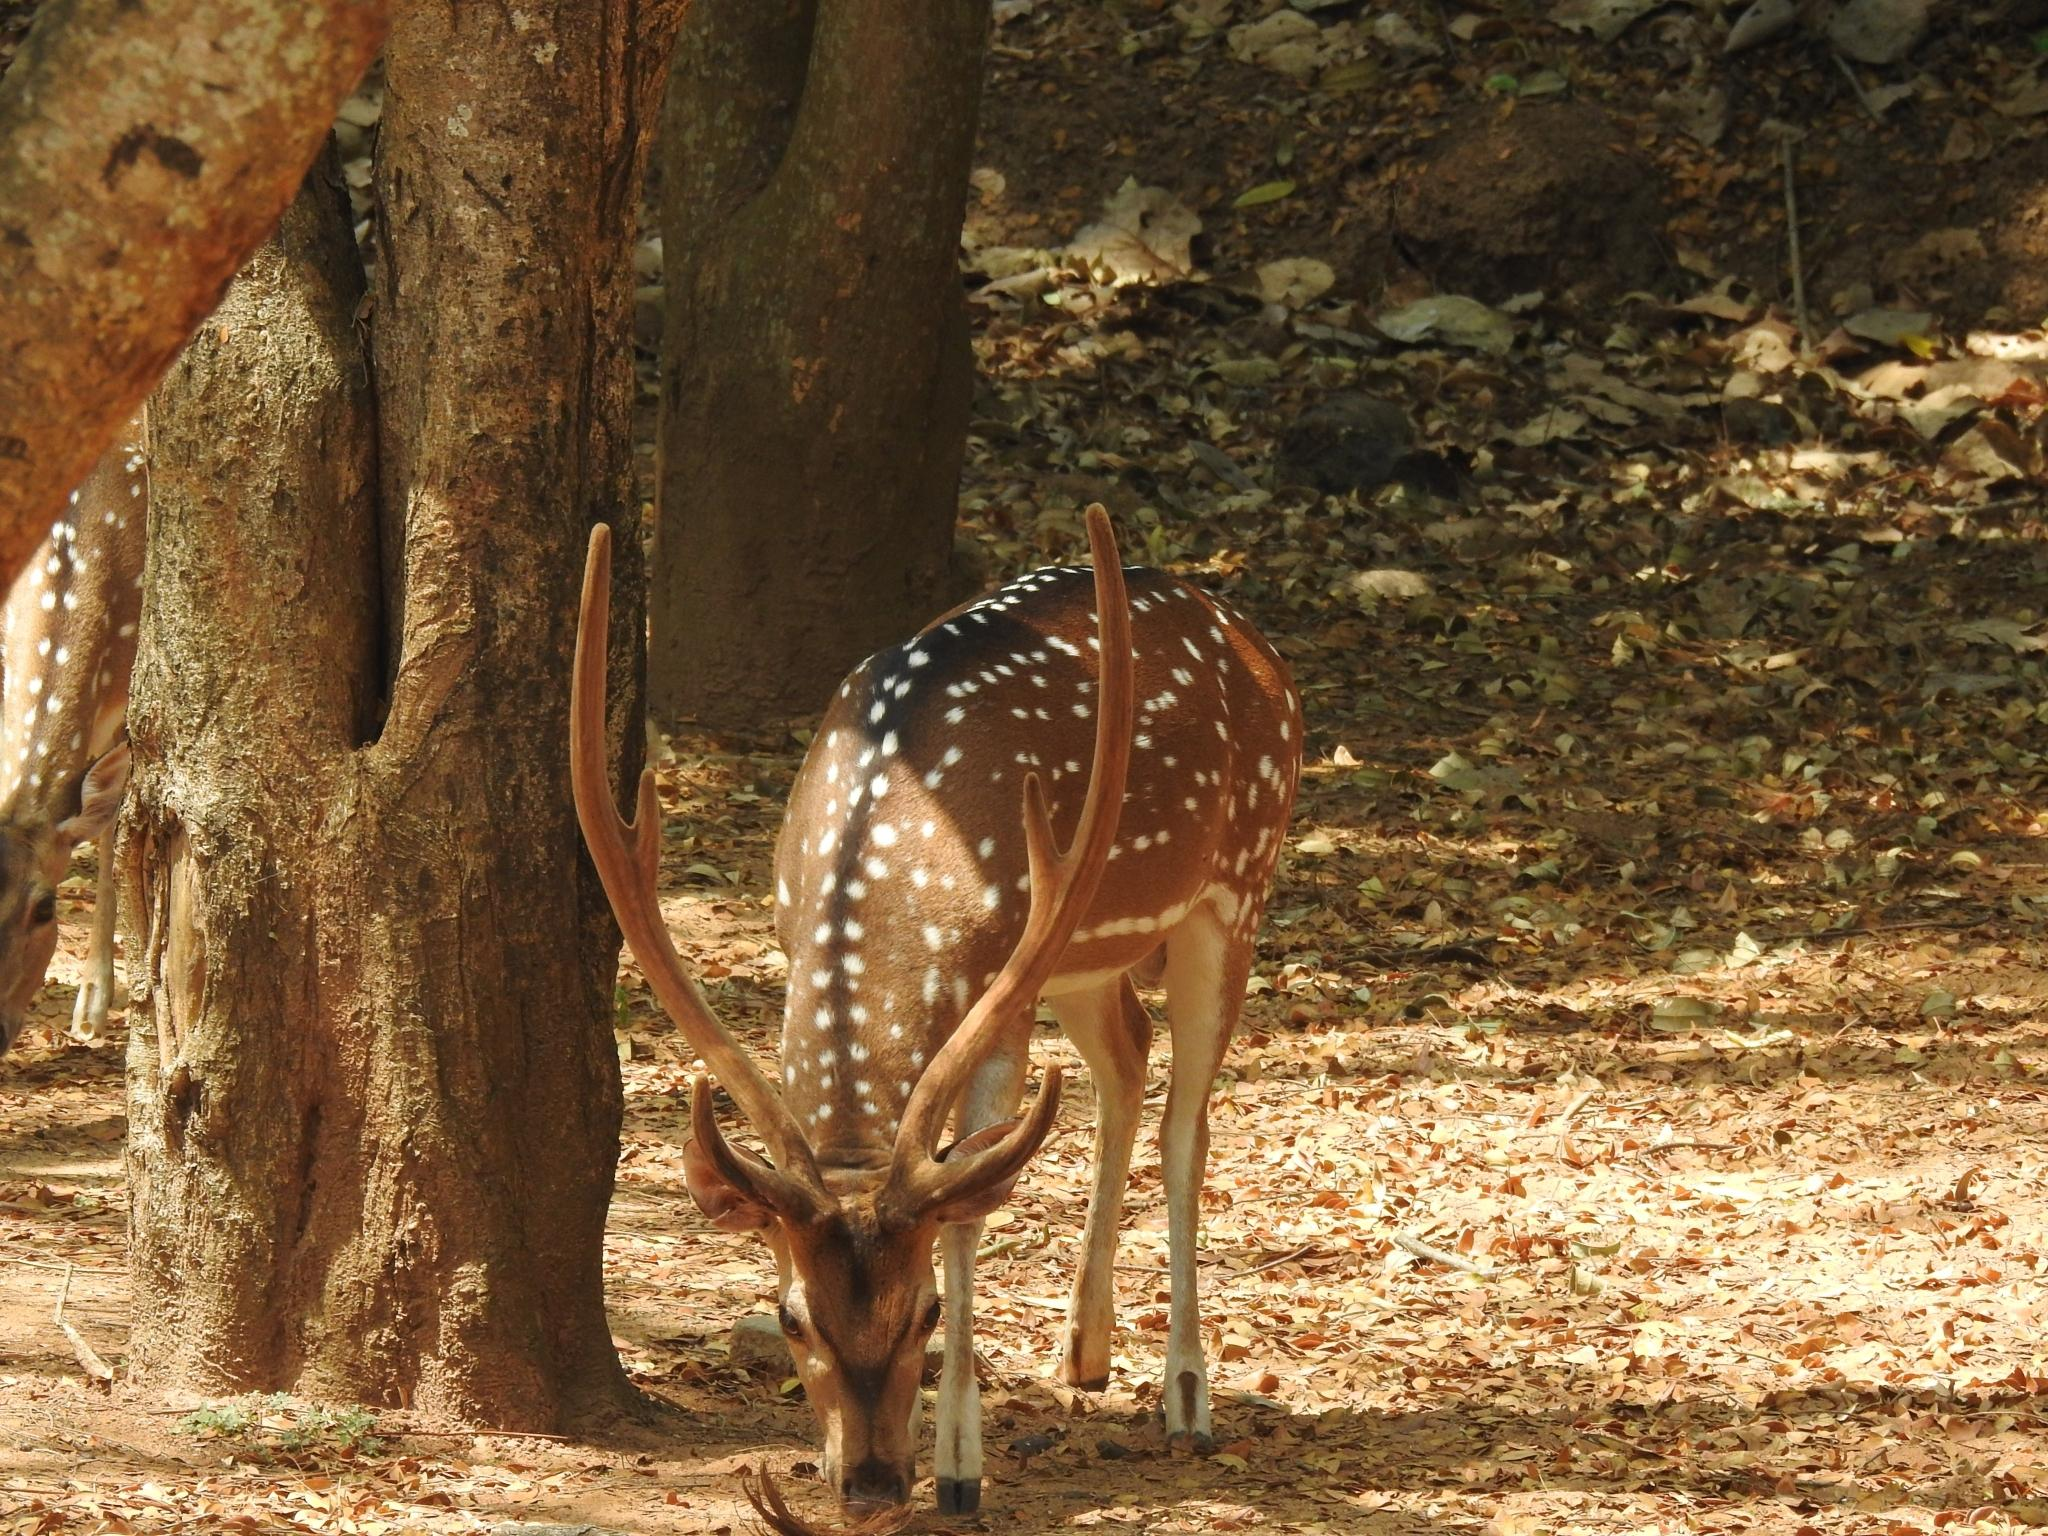Deer: (572, 507, 1300, 1520)
